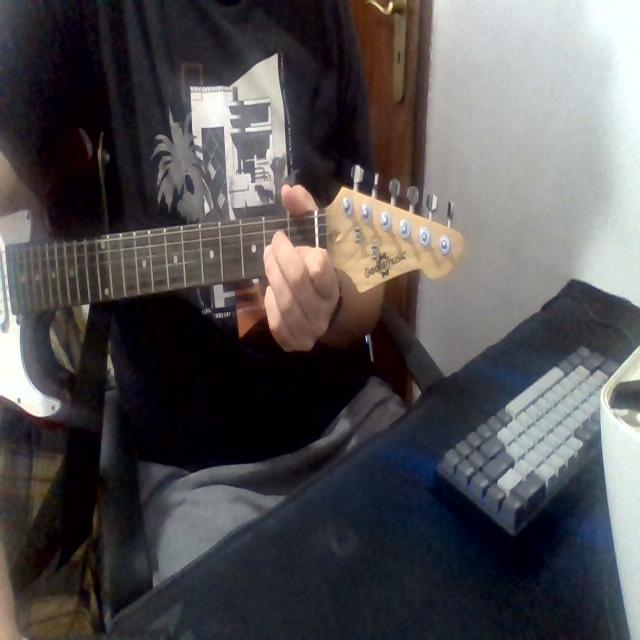Am: (257, 216, 358, 336)
